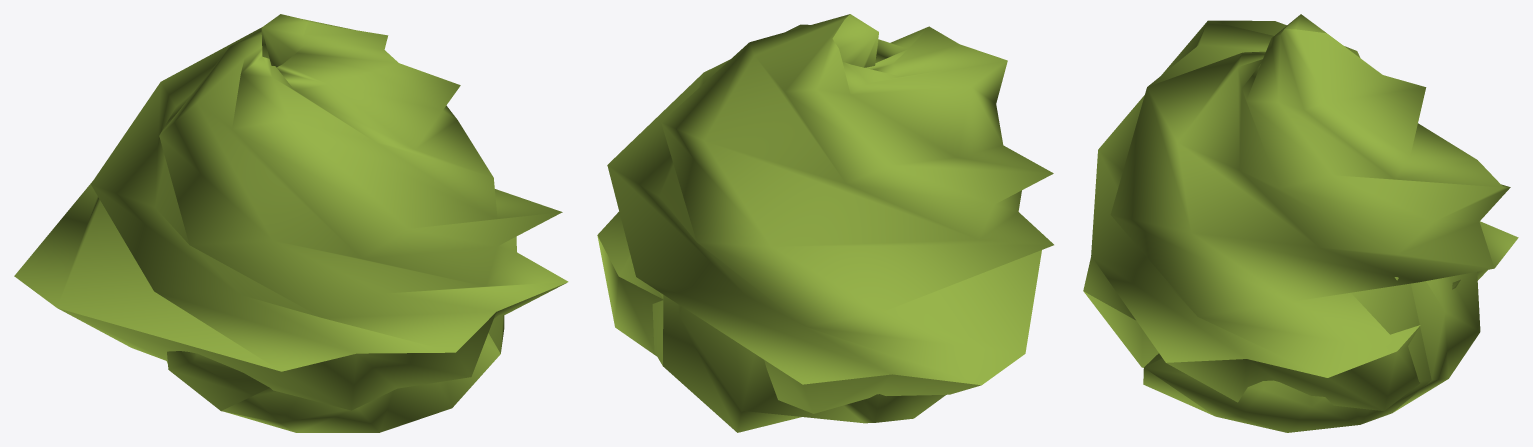
Rendered from kumamon_cake_cream_model_v01.FBX.
3 views of the same model, side by side, from view 1: azimuth 30°, elevation 25°; view 2: azimuth 150°, elevation 25°; view 3: azimuth 270°, elevation 25° (orthographic). The views are drawn at different scales.
Visible parts, largest first — view 1: Cylinder001, Cylinder002; view 2: Cylinder001, Cylinder002; view 3: Cylinder001, Cylinder002.
Boxes of the visible parts, x1,y1,x2,y2 form: Cylinder001: (14, 14, 568, 410); Cylinder002: (166, 314, 504, 432); Cylinder001: (597, 14, 1053, 413); Cylinder002: (652, 291, 945, 432); Cylinder001: (1083, 14, 1518, 410); Cylinder002: (1143, 272, 1480, 432).
Size of the model in its own units: 0.8485 by 0.7045 by 0.7712.
